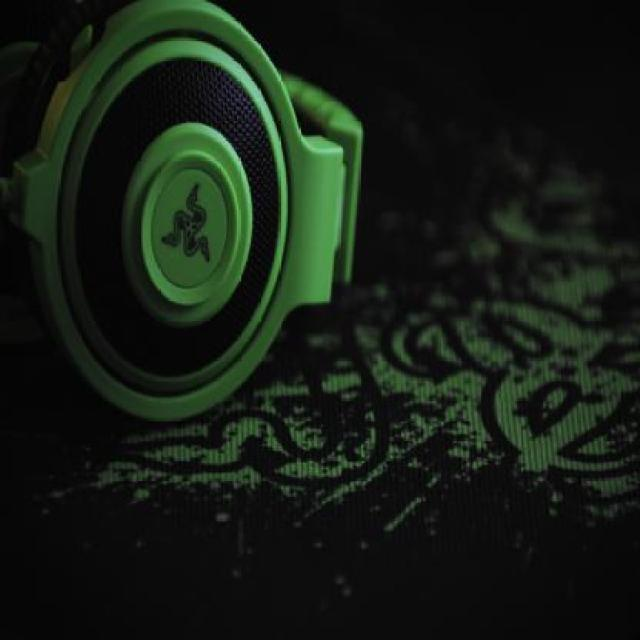earphone: (5, 0, 387, 415)
